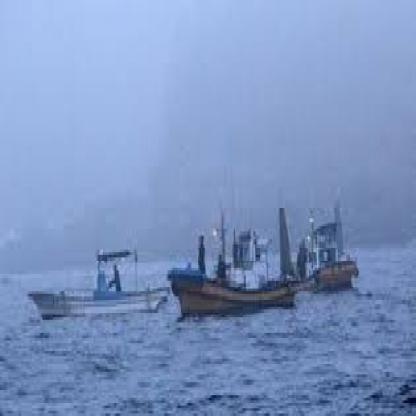fish-b: (165, 208, 312, 335), (20, 232, 176, 336)
